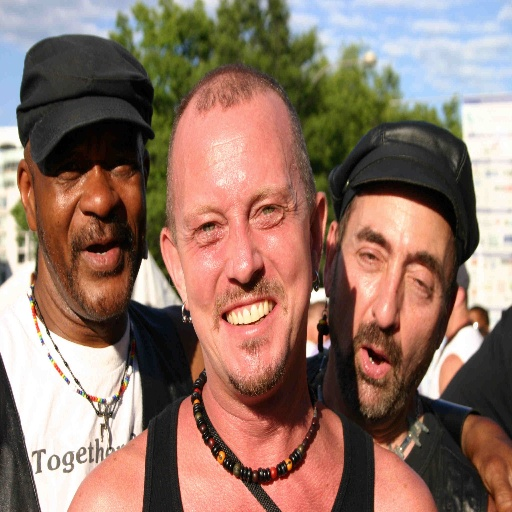hand: (463, 405, 508, 502)
